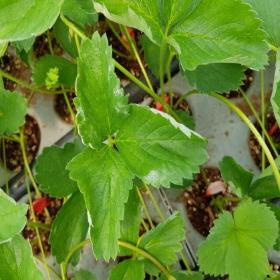Powdery Mildew Leaf: (65, 145, 136, 263), (115, 104, 210, 189), (72, 31, 131, 152)
